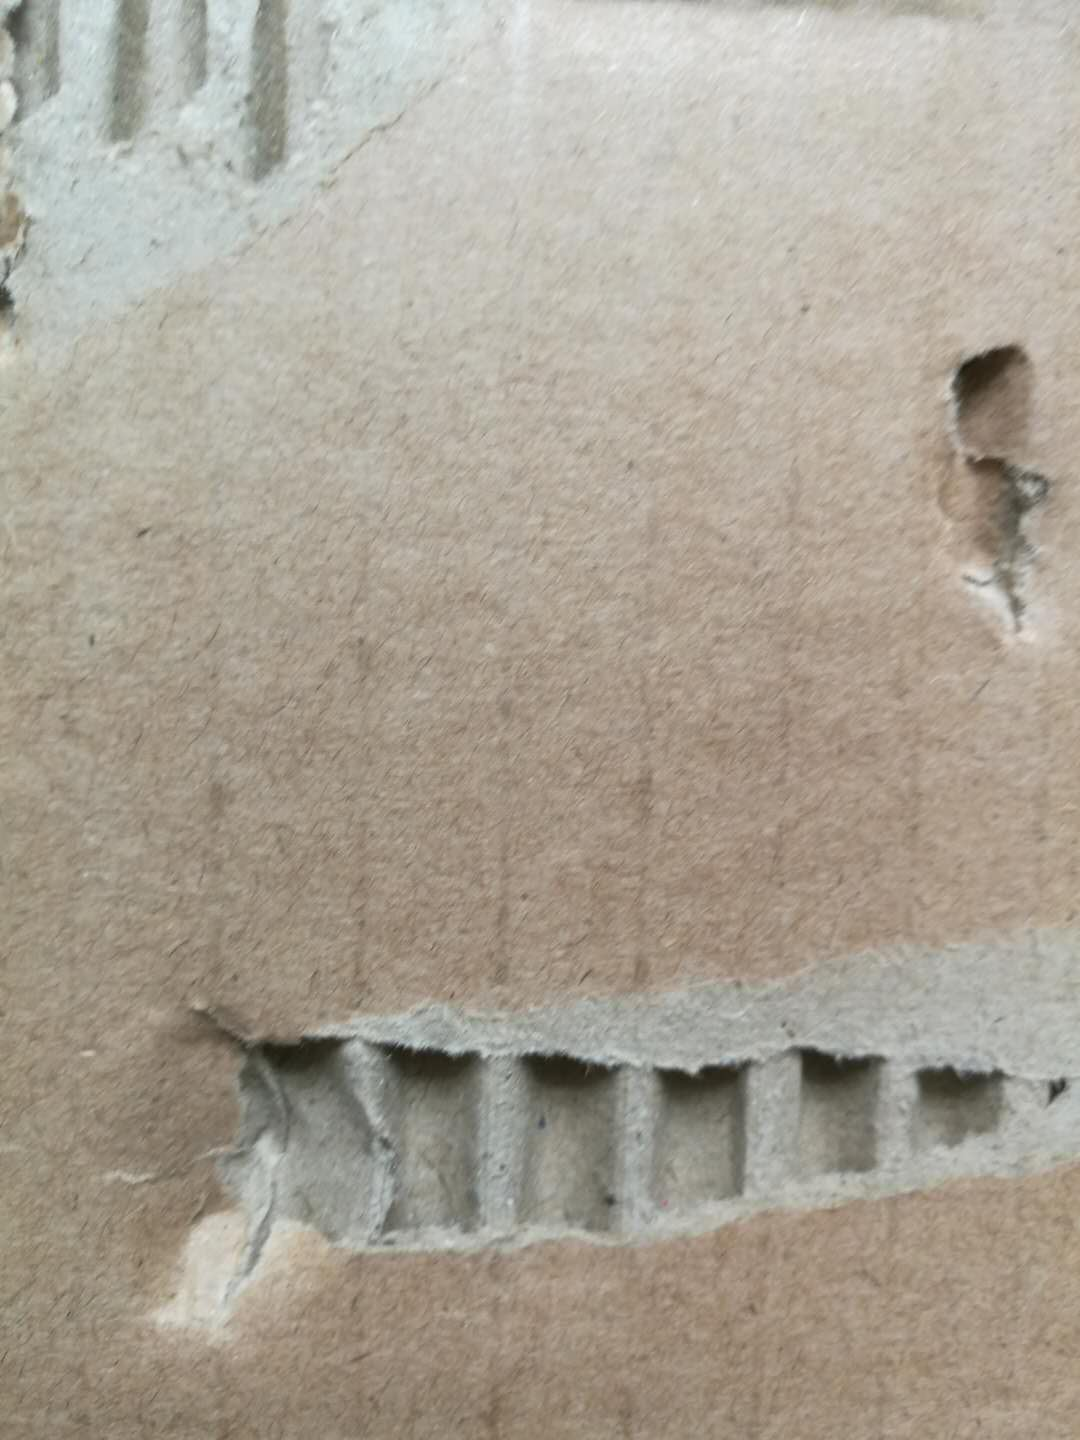defect: (57, 879, 1080, 1364), (2, 5, 559, 393), (886, 305, 1080, 686)
